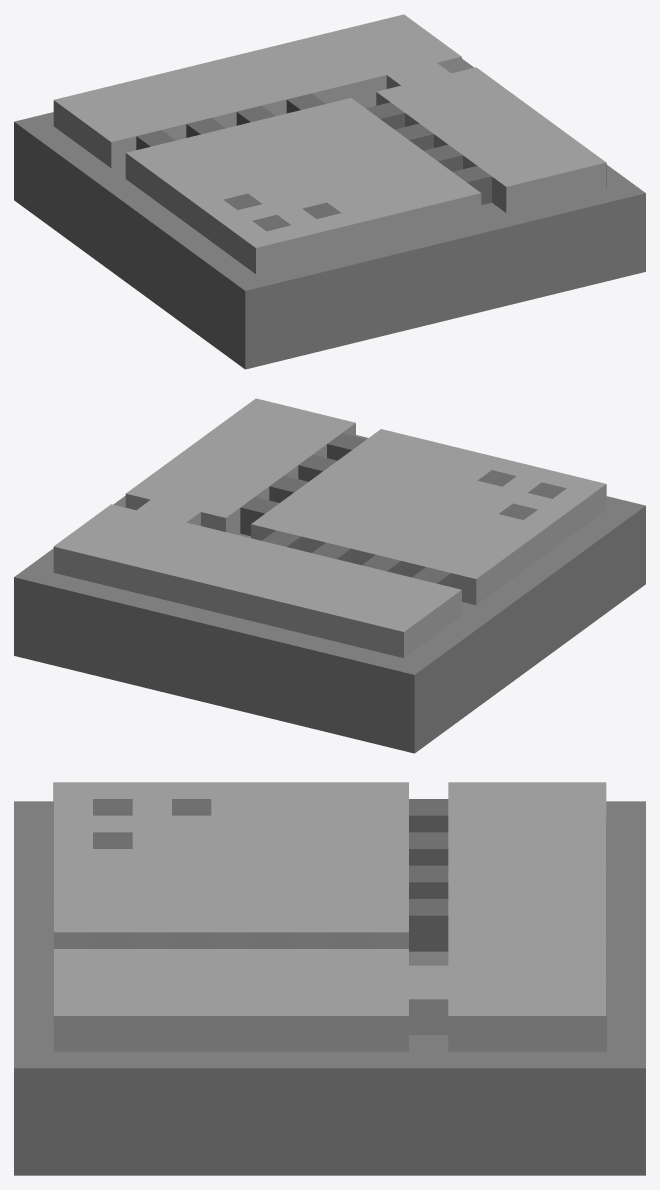
File: tile4.glb
The picture shows the model from 3 angles, top to bottom: view 1: azimuth 30°, elevation 25°; view 2: azimuth 150°, elevation 25°; view 3: azimuth 270°, elevation 25°; orthographic projection. The views are drawn at different scales.
Visible parts, largest first — view 1: Untitled; view 2: Untitled; view 3: Untitled.
Part boxes in pixels (x1,y1,x2,y2): Untitled: (14, 14, 645, 369); Untitled: (14, 398, 645, 753); Untitled: (14, 782, 645, 1175).
Size of the model in its own units: 2 by 0.5 by 2.
Materials: 1 (1 with a texture image).
